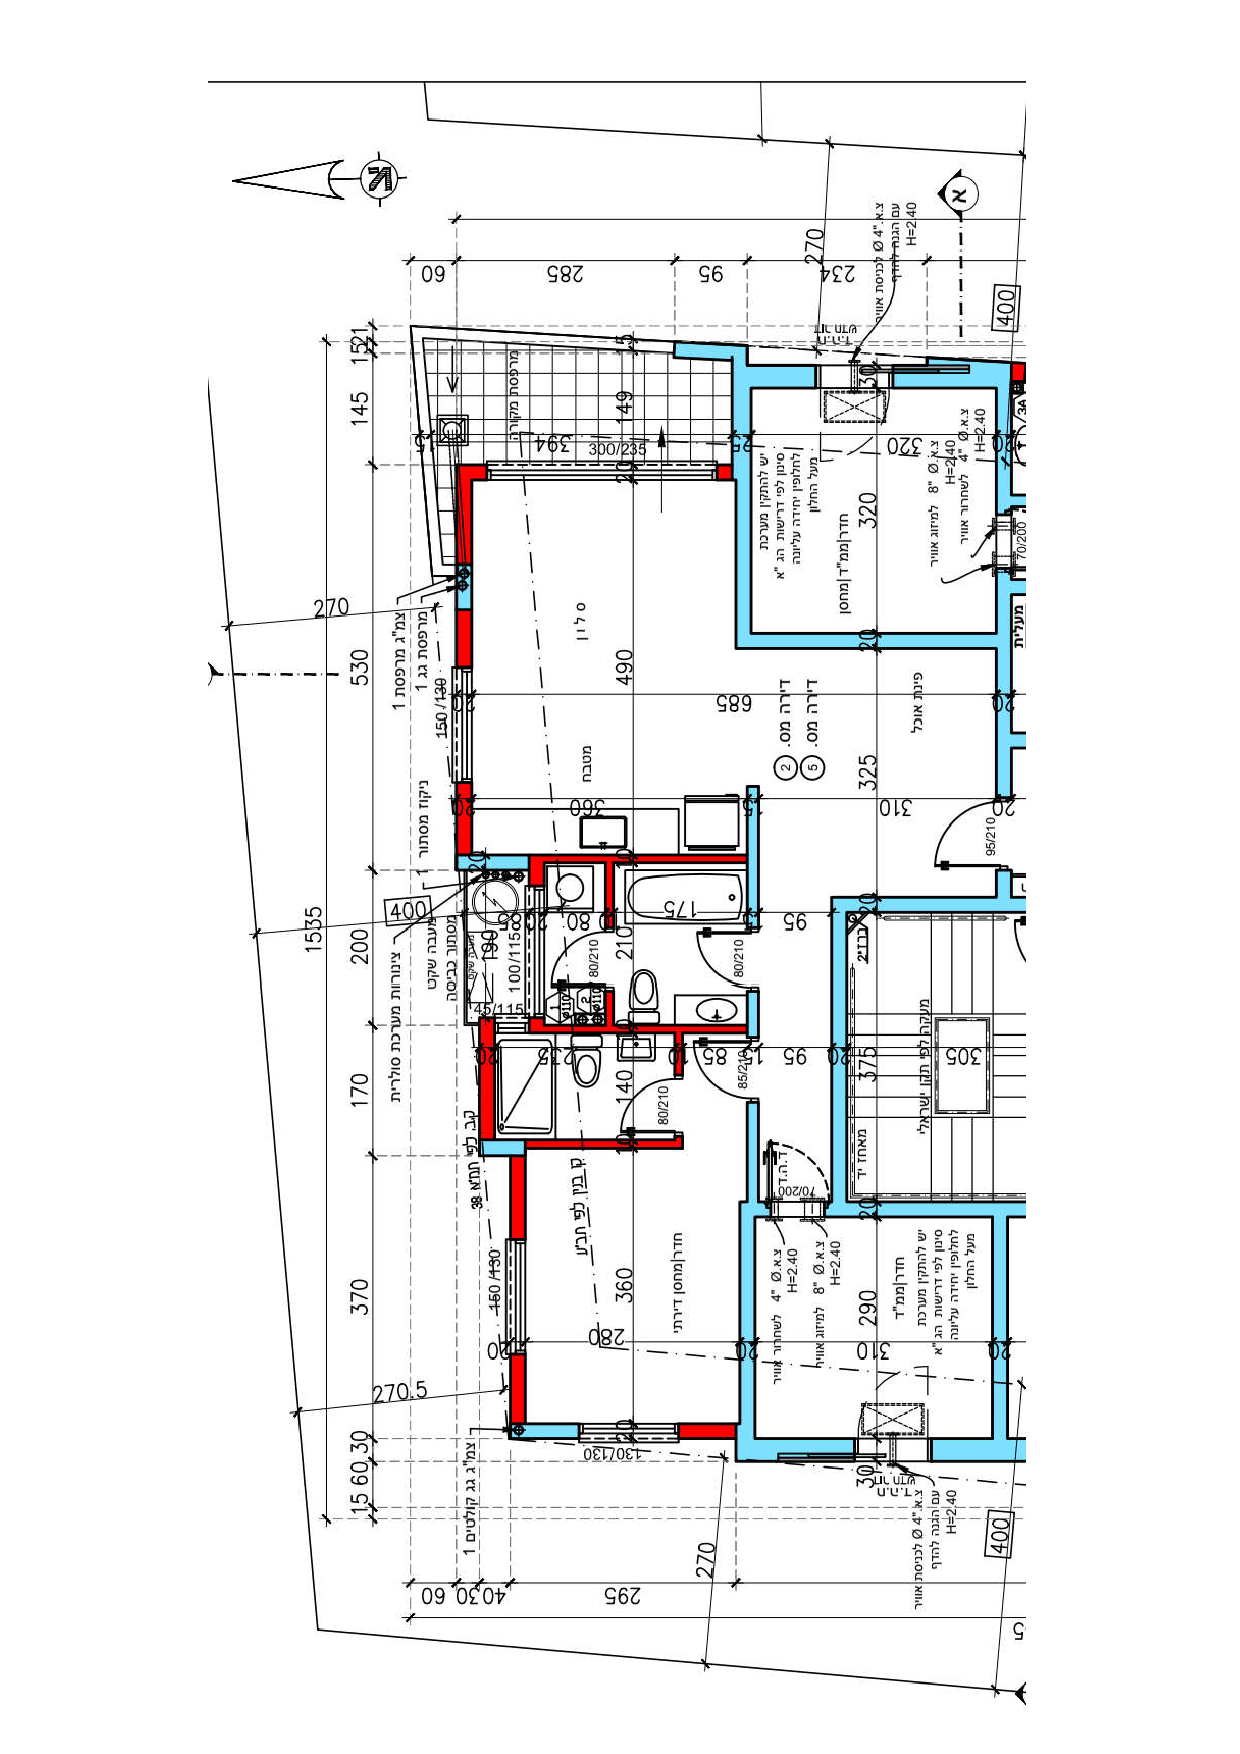door: (927, 798, 986, 874), (766, 1138, 829, 1194), (690, 1037, 734, 1098), (613, 1082, 663, 1134)
wall: (825, 896, 866, 1227), (731, 1096, 768, 1413), (727, 623, 1020, 662), (988, 1229, 1016, 1474), (734, 483, 752, 647), (880, 898, 1028, 911), (731, 366, 819, 388), (531, 854, 747, 862), (892, 372, 1006, 386), (896, 1202, 1017, 1216), (526, 1141, 682, 1149), (510, 1155, 523, 1231), (480, 1060, 494, 1134), (747, 816, 757, 911), (456, 611, 471, 660), (480, 1139, 523, 1155)
window: (446, 666, 483, 790), (501, 1236, 535, 1359), (577, 1417, 680, 1447)
